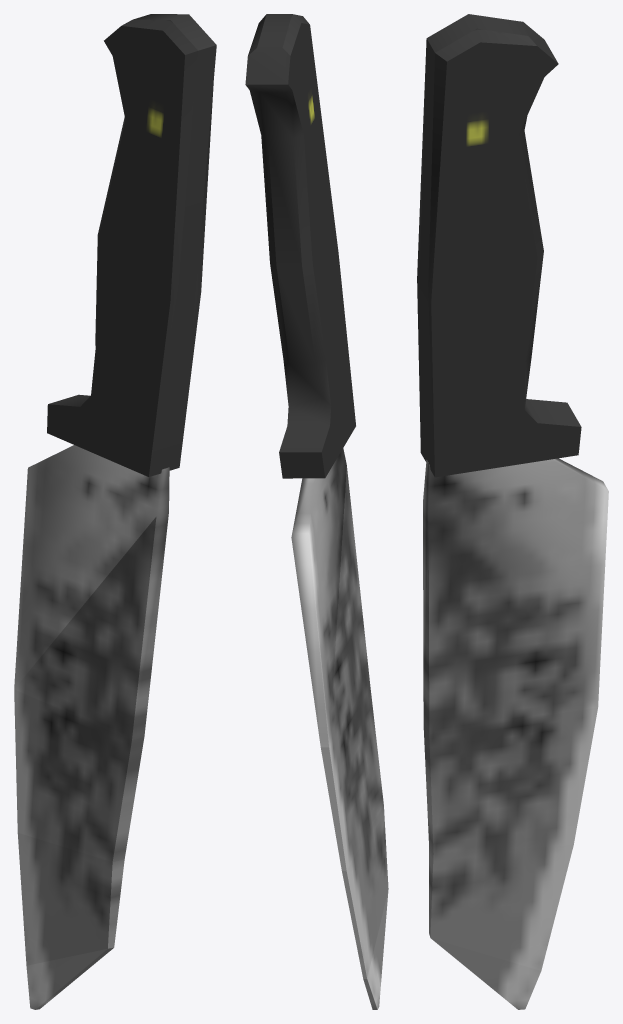
File: H_PChefKnife01.fbx
The picture shows the model from 3 angles, left to right: view 1: azimuth 30°, elevation 25°; view 2: azimuth 150°, elevation 25°; view 3: azimuth 270°, elevation 25°; orthographic projection. The views are drawn at different scales.
Parts seen in each view (by area): view 1: PKnife; view 2: PKnife; view 3: PKnife.
Boxes of the visible parts, <box> form: PKnife: <box>14,14,216,1009</box>; PKnife: <box>245,14,388,1009</box>; PKnife: <box>417,14,608,1009</box>.
Size of the model in its own units: 11.21 by 70.2 by 11.6.
